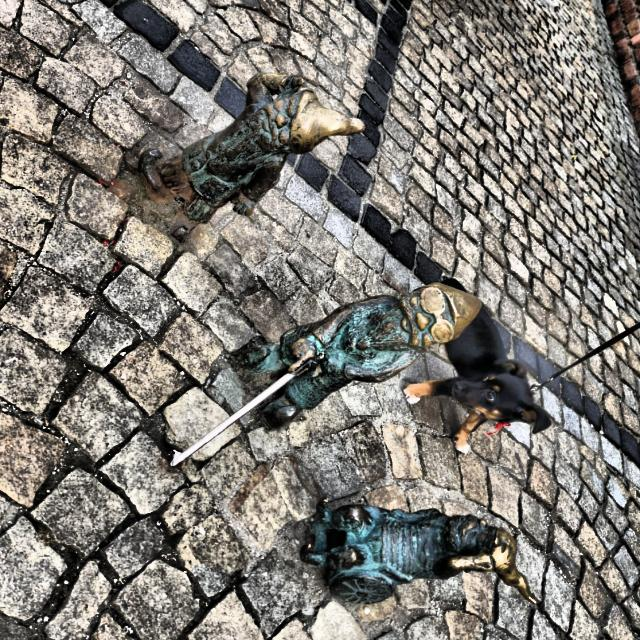Gluchak: (135, 71, 365, 241)
Slepak: (170, 282, 483, 468)
W-Skers: (300, 497, 537, 606)
